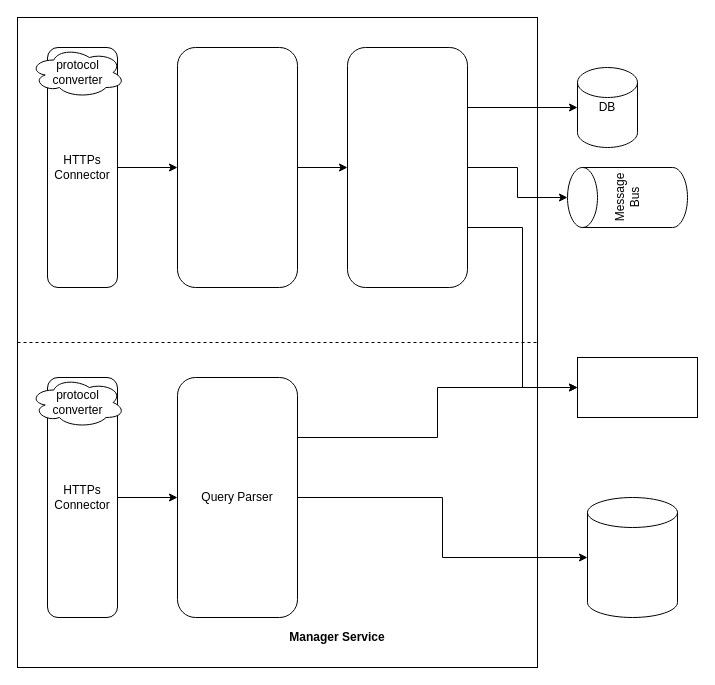
Image size: 715x685. Some labels were removed from this diagram. The centre of each missing label's shape, as x and y in pixels:
AAS data parser: [237,167]
Commit data: [407,167]
DB (Materialized view): [632,557]
Local Cache (relationship data): [637,387]
